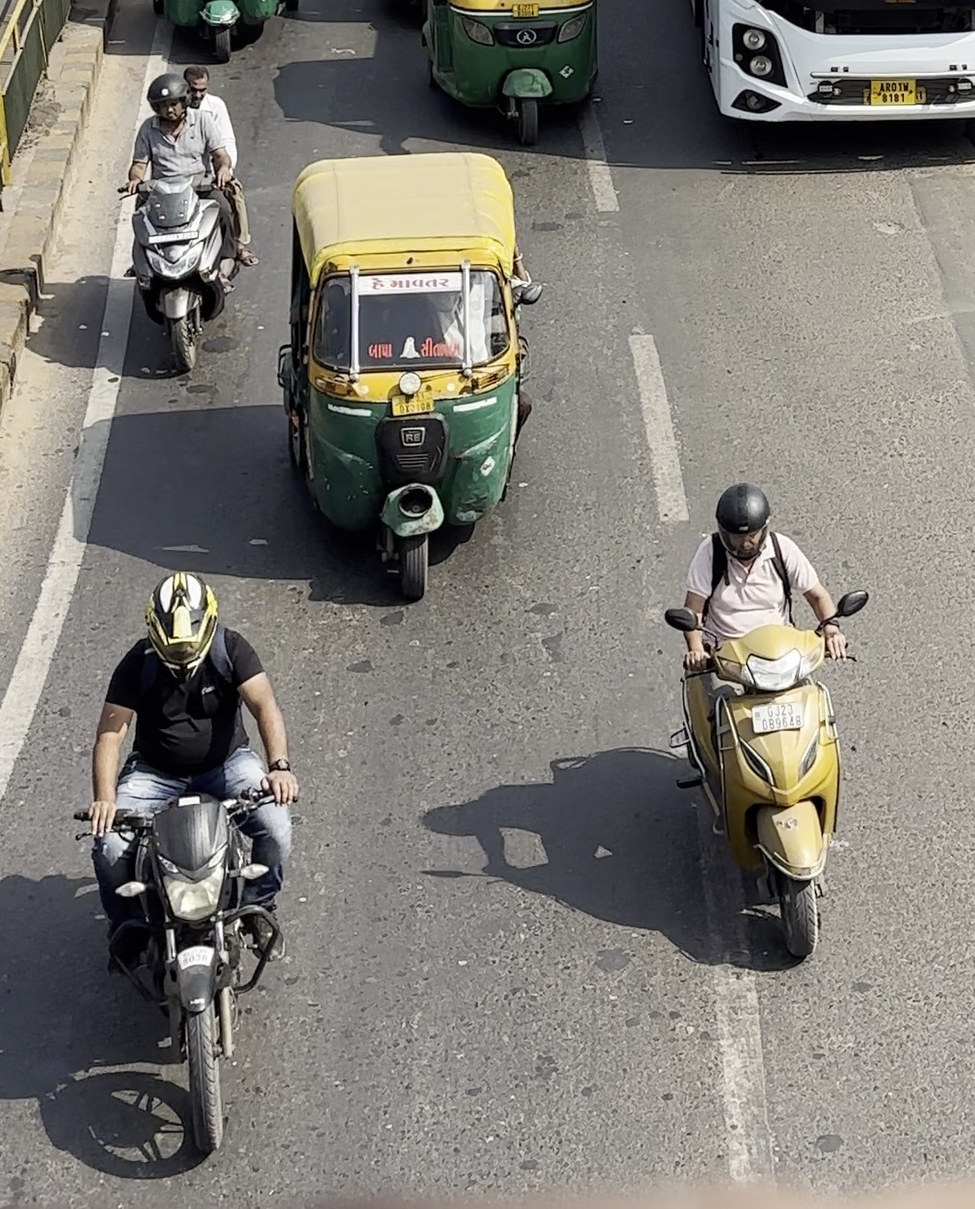BikeWithRider: (63, 559, 309, 1166), (653, 472, 879, 970), (105, 54, 264, 383)
Helmet: (130, 560, 233, 682), (703, 473, 783, 565), (139, 63, 197, 132)
NoHelmet: (174, 59, 218, 114)
